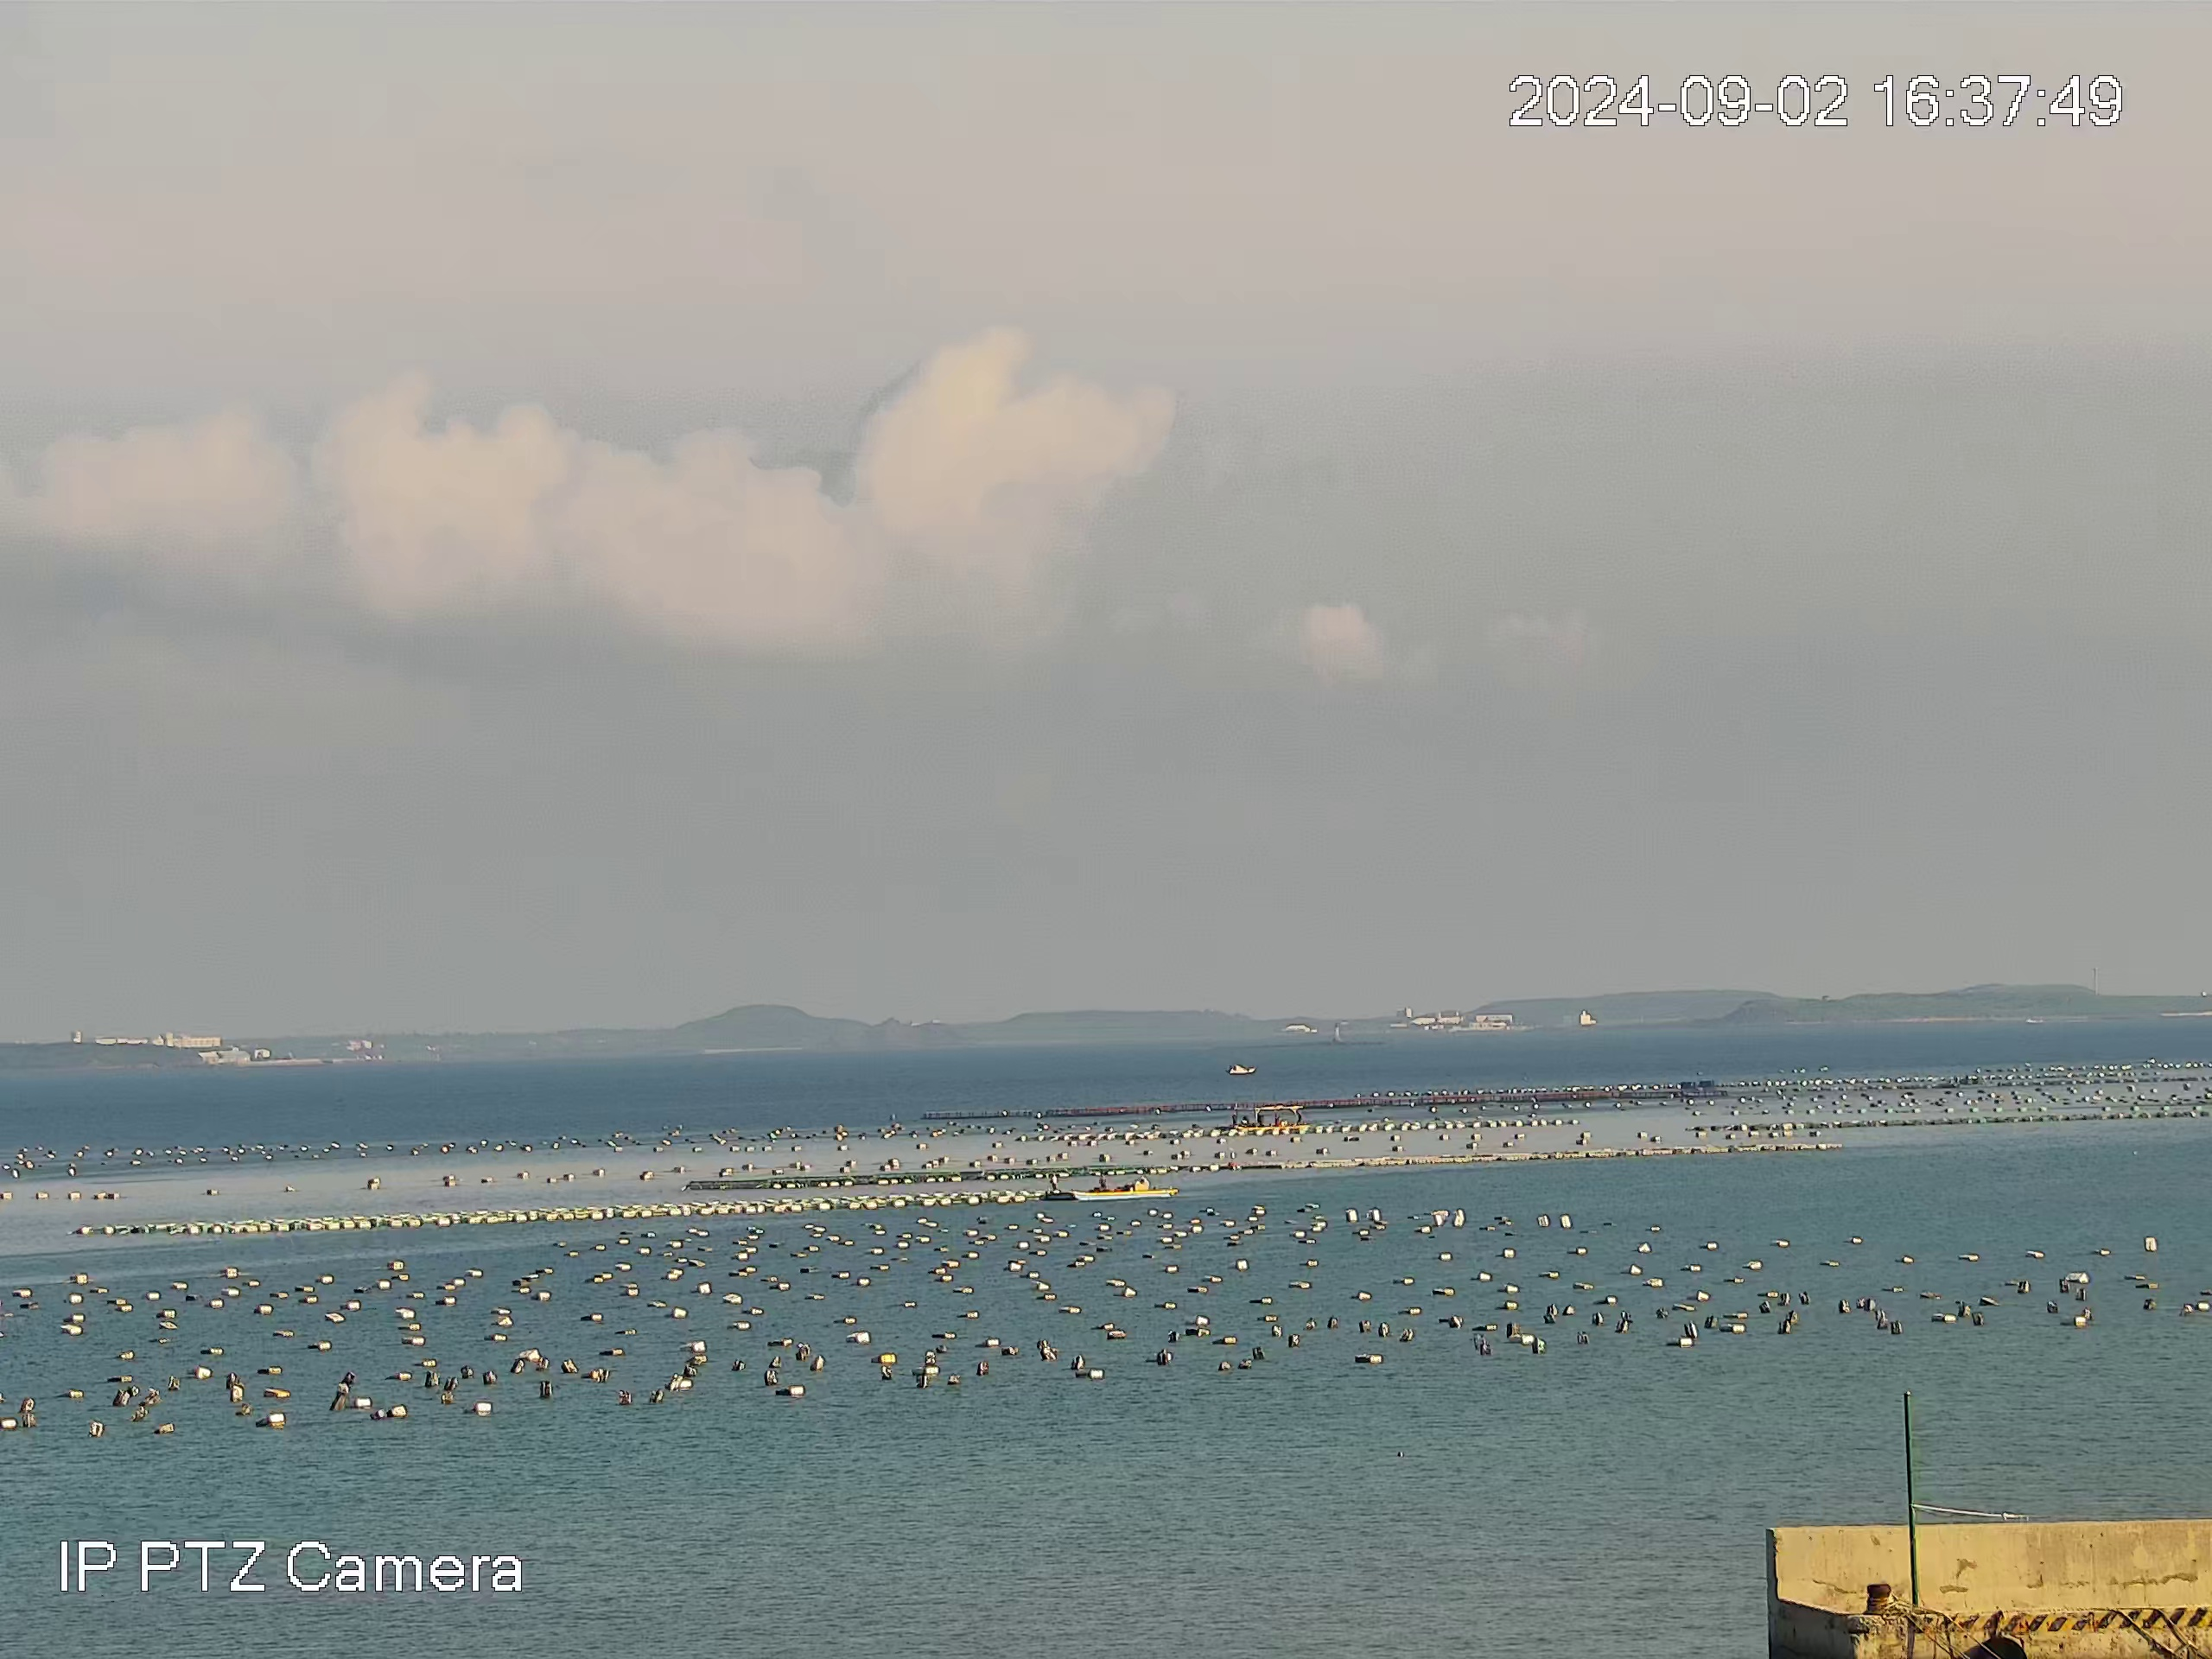boat: (1039, 1170, 1179, 1203), (1229, 1102, 1311, 1130), (1226, 1061, 1257, 1076)
